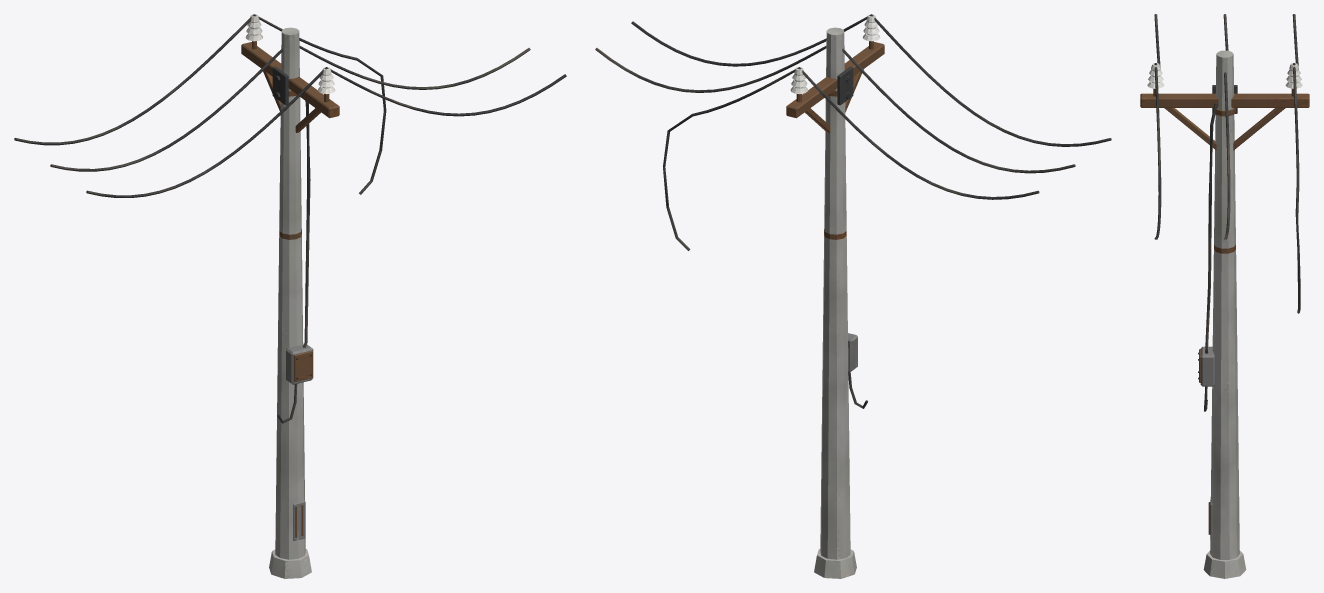
Rendered from R19_electric_pole_with_wires.glb.
The picture shows the model from 3 angles, left to right: view 1: azimuth 30°, elevation 25°; view 2: azimuth 150°, elevation 25°; view 3: azimuth 270°, elevation 25°; orthographic projection. The views are drawn at different scales.
Visible parts, largest first — view 1: Tapered cast concrete pole; view 2: Tapered cast concrete pole; view 3: Tapered cast concrete pole.
Part boxes in pixels (x1,y1,x2,y2): Tapered cast concrete pole: (14, 14, 566, 578); Tapered cast concrete pole: (595, 14, 1111, 578); Tapered cast concrete pole: (1140, 14, 1309, 578).
Size of the model in its own units: 7.46 by 8 by 2.38.
6 materials, 6 textured.
